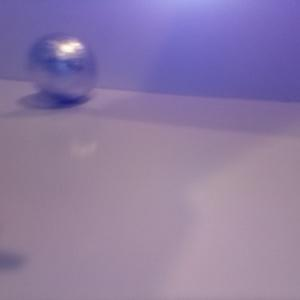alive_ball: (28, 31, 97, 104)
